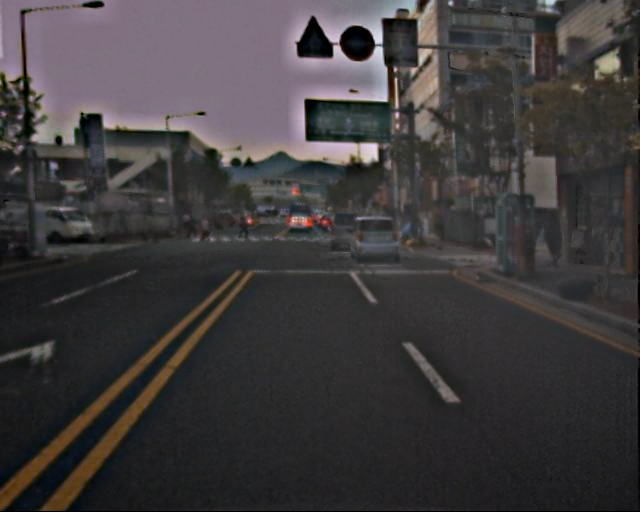person: (542, 213, 567, 273), (200, 216, 211, 244), (186, 213, 197, 241), (240, 216, 250, 241)
